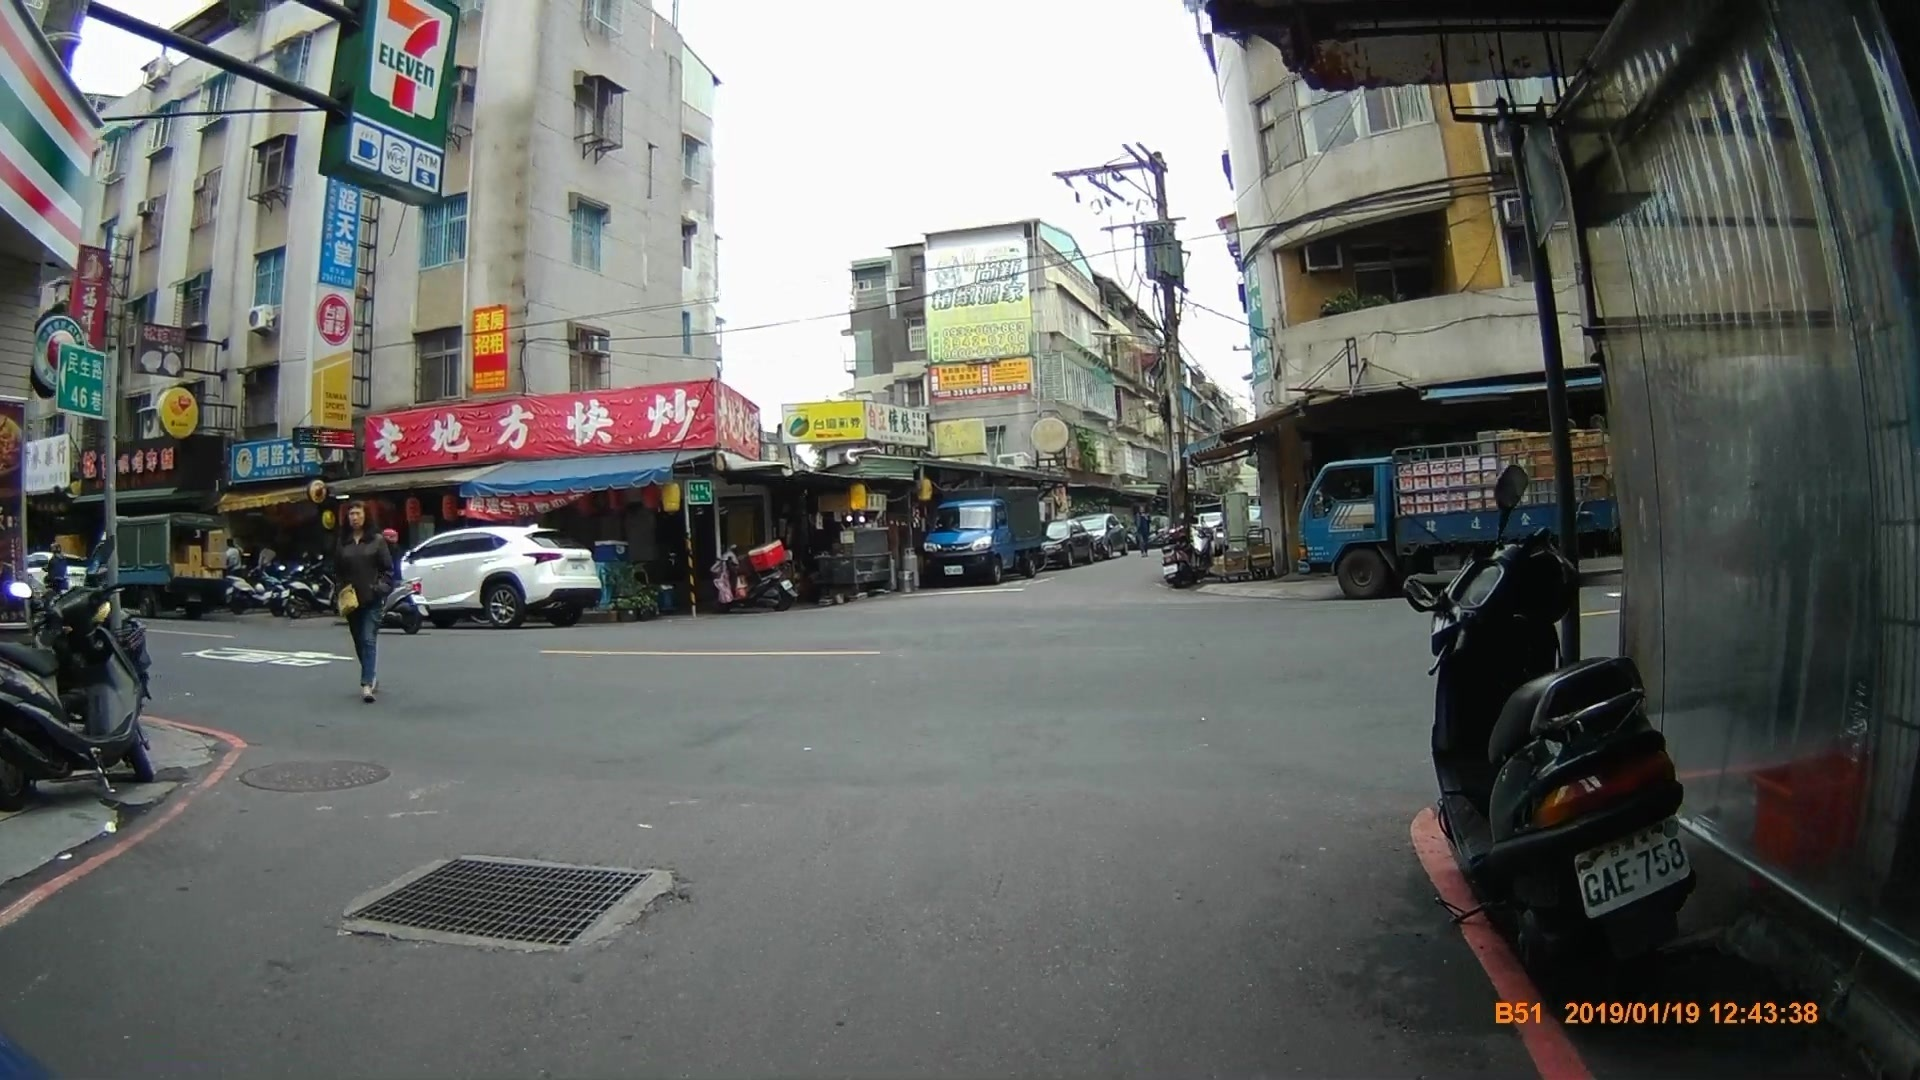License_plate: (1567, 827, 1702, 911), (567, 562, 593, 579), (941, 563, 967, 579)
